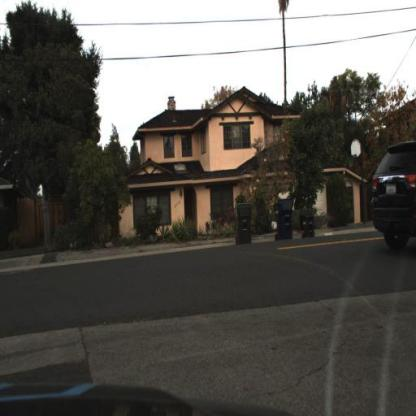car: (371, 141, 416, 253)
